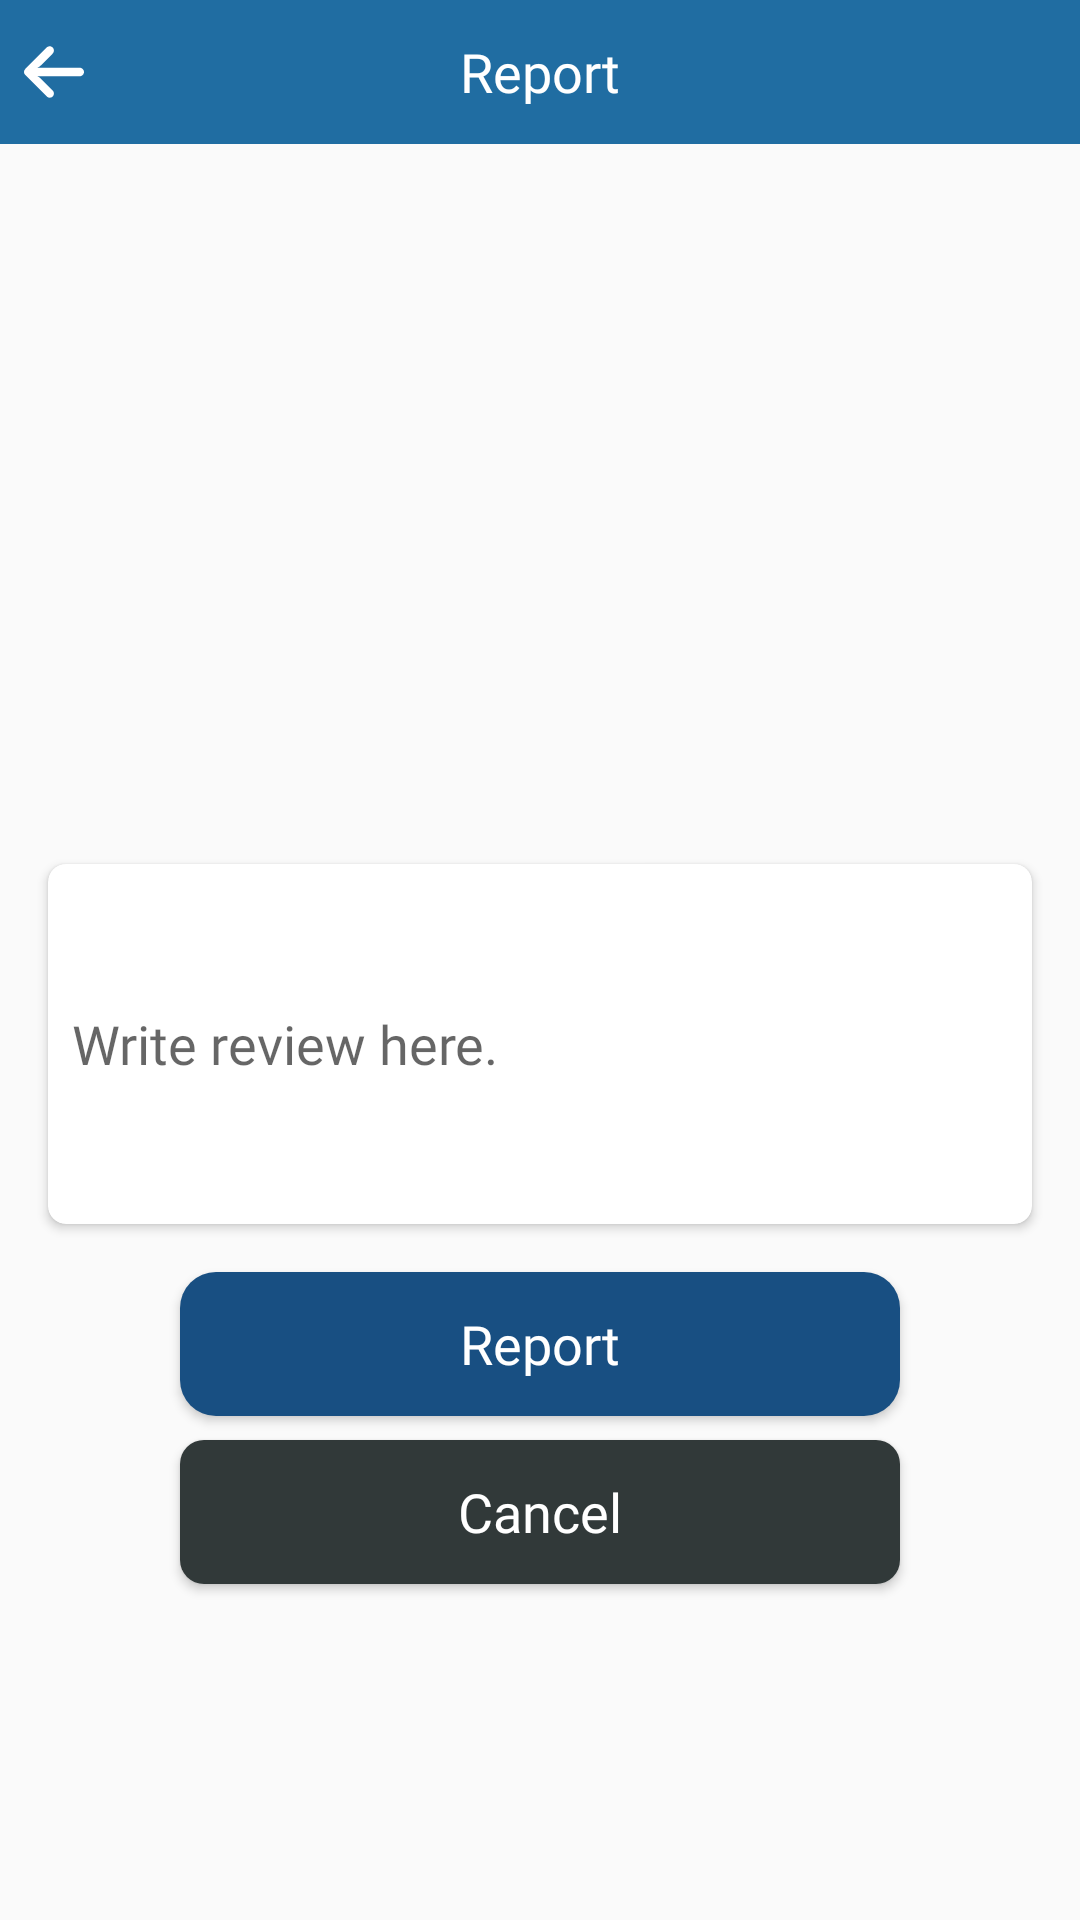

Named icons in this screenshot (1080w x 1920h) and their bounding boxes, Rect(x1, y1, x2, y2):
back: Rect(24, 46, 84, 98)
